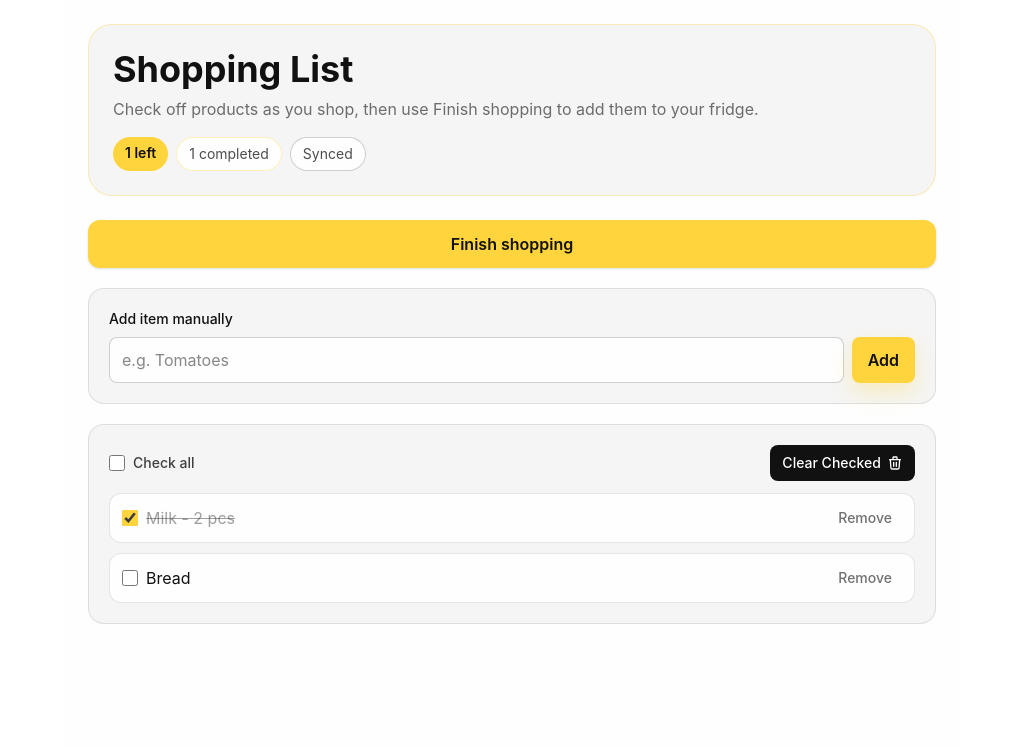
ShoppingList fridge import › waits for confirmation and sends estimated shopping quantities
Expected: the text "Check off products as you shop, then use Finish shopping to add them to your fridge." is shown, [113,99,759,119]
Click the button "Finish shopping".
click(512, 244)  # box [88,220,936,268]
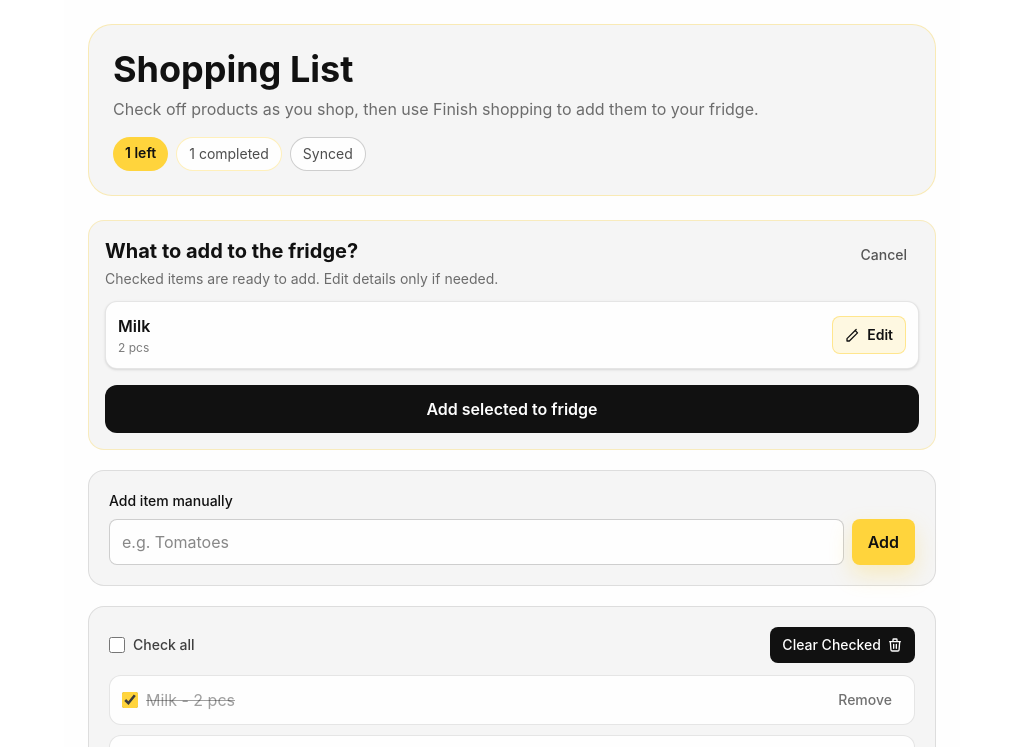
Expected: the field labelled "Item name" is not shown
Expected: the heading "What to add to the fridge?" is shown, [105,239,358,263]
Expected: the button with aria-label "Edit Milk" reads "Edit"
Click the button with aria-label "Edit Milk".
click(869, 335)  # box [832,316,906,354]
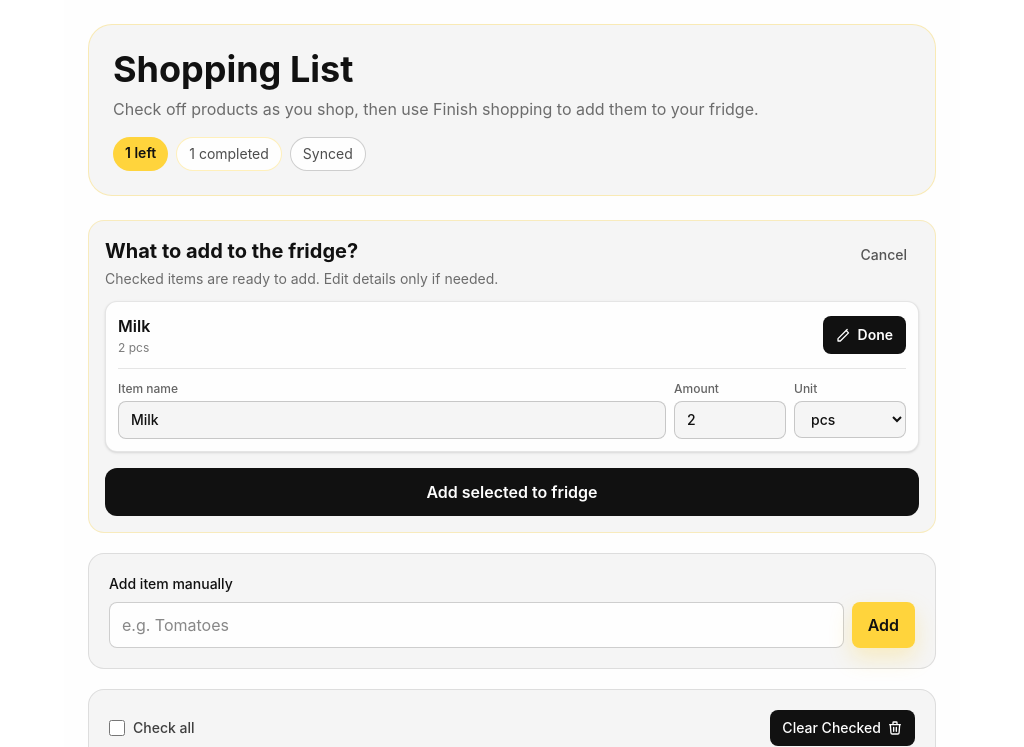
Expected: the field labelled "Item name" holds "Milk", [118,401,666,439]
Click the button with aria-label "Edit Milk".
click(864, 335)  # box [822,316,906,354]
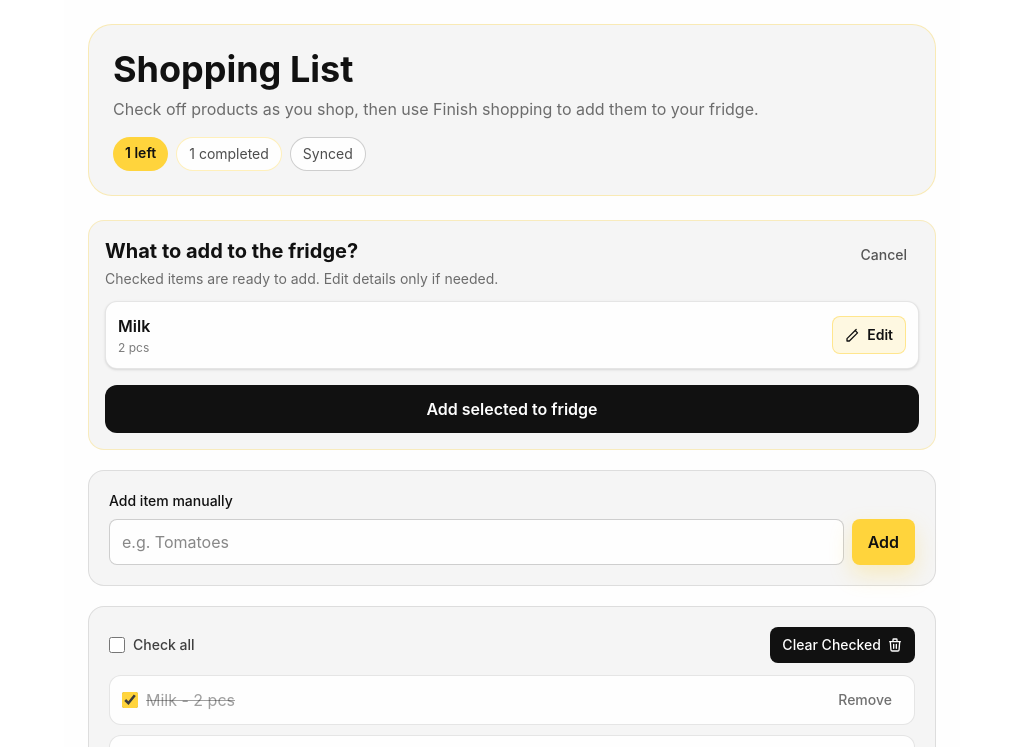
Expected: the label "Item name" is gone
Click the button "Add selected to fridge".
click(512, 409)  # box [105,385,919,433]
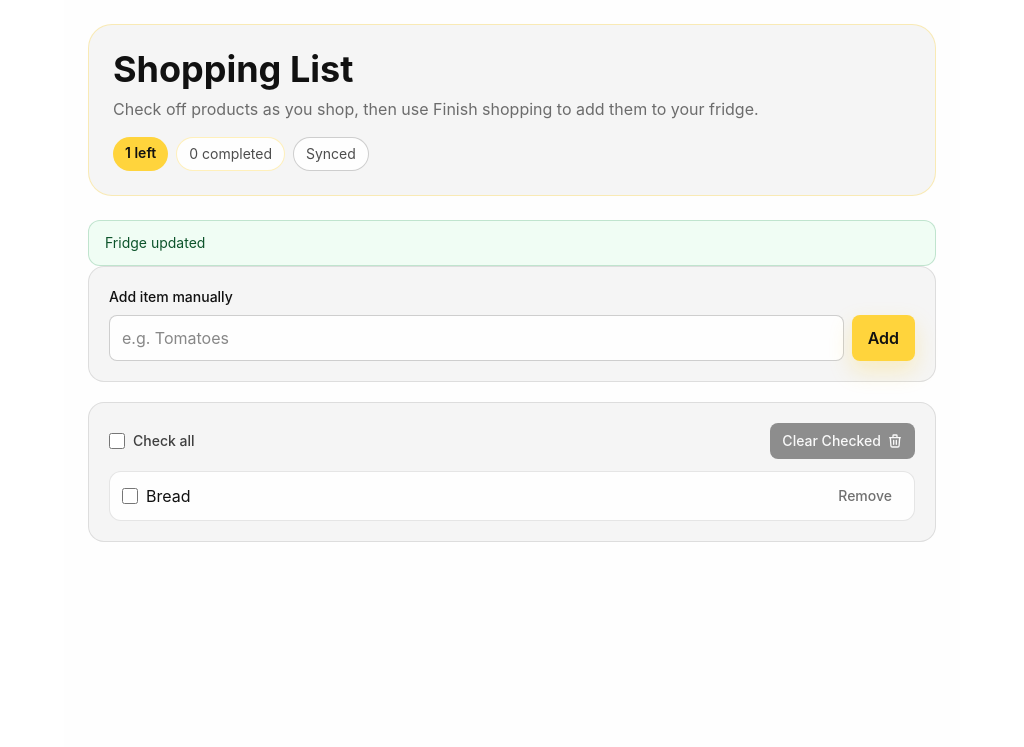
Expected: the text "Bread" is shown, [146,484,190,508]
Expected: the text "Milk - 2 pcs" is gone
